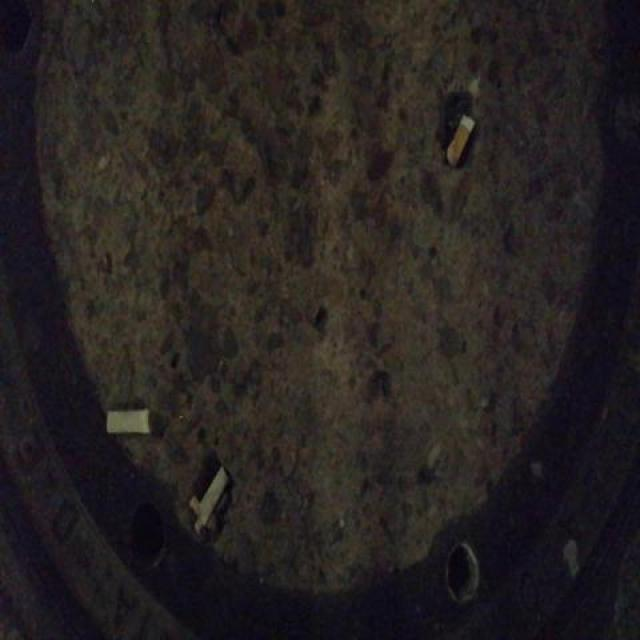non-organic waste: (196, 463, 232, 529), (444, 112, 476, 172), (102, 406, 154, 438)
